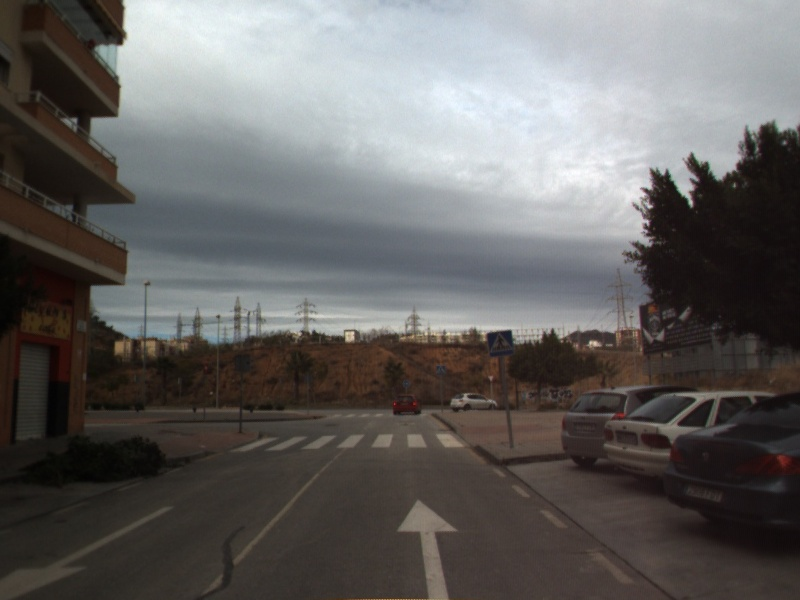STRAIGHT: (395, 497, 460, 600)
